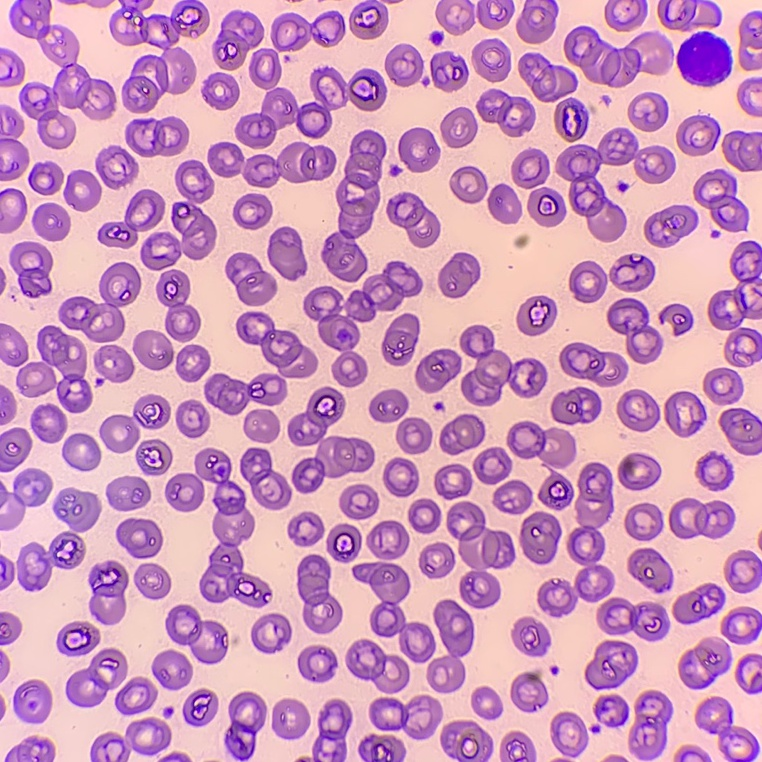RBC: (165, 449, 271, 607), (13, 0, 115, 148), (236, 49, 385, 148), (304, 261, 421, 386), (556, 128, 674, 241), (538, 463, 613, 616), (110, 0, 208, 112), (322, 130, 385, 281), (288, 388, 374, 492), (17, 488, 100, 589), (353, 562, 434, 662), (141, 160, 215, 269), (447, 502, 514, 608), (460, 325, 547, 405), (708, 241, 761, 366), (564, 27, 673, 86), (59, 263, 140, 342), (17, 326, 91, 412), (208, 142, 335, 187), (237, 312, 316, 377), (427, 600, 473, 692), (100, 395, 170, 452), (696, 697, 756, 761), (98, 190, 164, 247), (607, 298, 662, 363), (66, 648, 126, 706), (166, 605, 227, 662), (91, 718, 170, 761), (298, 555, 341, 633), (694, 169, 748, 231), (204, 374, 286, 414), (346, 640, 409, 692), (240, 448, 291, 509), (507, 422, 575, 467), (157, 270, 200, 341), (369, 696, 441, 738), (0, 469, 51, 528), (597, 598, 668, 640), (213, 10, 263, 69), (629, 690, 671, 760), (560, 343, 627, 386), (271, 11, 344, 50), (387, 193, 439, 246), (518, 54, 576, 101), (477, 89, 534, 136), (225, 692, 265, 758), (677, 35, 728, 86), (226, 253, 276, 305), (669, 498, 734, 538), (679, 638, 730, 688), (125, 117, 188, 156), (89, 561, 128, 624), (585, 641, 637, 688), (313, 700, 352, 761), (10, 242, 51, 297), (644, 205, 696, 247), (520, 512, 560, 563), (673, 583, 724, 623), (441, 721, 492, 761), (0, 108, 28, 180), (268, 227, 306, 279), (628, 548, 672, 592), (416, 349, 461, 392), (720, 408, 761, 455), (382, 314, 419, 365), (551, 387, 601, 424), (116, 518, 162, 558), (398, 128, 439, 172), (438, 253, 479, 297), (665, 391, 705, 436), (96, 146, 137, 188), (617, 390, 659, 431), (440, 414, 484, 453), (517, 0, 555, 43), (610, 254, 654, 291), (677, 116, 718, 155), (472, 39, 510, 81), (152, 650, 192, 689), (569, 261, 607, 302), (367, 521, 408, 559), (618, 453, 660, 490), (14, 680, 51, 722), (551, 712, 586, 756), (668, 0, 719, 30), (628, 92, 667, 131), (517, 296, 556, 335), (723, 131, 761, 171), (133, 331, 173, 369), (251, 614, 291, 652), (385, 44, 422, 85), (115, 677, 156, 714), (725, 550, 761, 592), (106, 476, 150, 510), (349, 0, 387, 38), (94, 345, 133, 382), (721, 607, 760, 644), (272, 699, 309, 738), (64, 170, 100, 210), (511, 671, 547, 711), (430, 52, 467, 90), (512, 149, 549, 187), (528, 188, 565, 226), (512, 618, 550, 655), (703, 368, 742, 404), (57, 622, 99, 655), (63, 433, 100, 470), (625, 503, 662, 540), (696, 452, 732, 490), (441, 108, 476, 147), (554, 99, 587, 140), (0, 428, 31, 471), (33, 203, 69, 240), (474, 447, 511, 483), (340, 484, 378, 519), (298, 646, 336, 681), (202, 73, 238, 109), (450, 166, 486, 202), (31, 405, 66, 442), (436, 0, 474, 34), (233, 194, 271, 228), (384, 458, 418, 496), (134, 563, 170, 598), (327, 524, 361, 561), (488, 185, 521, 223), (493, 480, 531, 513), (605, 0, 646, 30), (435, 464, 471, 498), (183, 689, 217, 725), (370, 390, 408, 422), (359, 735, 405, 761), (397, 418, 431, 453), (136, 440, 171, 474), (288, 512, 323, 546), (419, 543, 454, 577), (176, 345, 209, 381), (176, 401, 209, 437), (244, 409, 279, 442), (539, 474, 572, 509), (0, 189, 26, 232), (0, 324, 27, 365), (8, 737, 54, 761), (29, 162, 62, 194), (408, 499, 440, 532), (477, 0, 513, 29), (595, 695, 627, 726), (501, 732, 535, 761), (660, 304, 692, 334), (736, 654, 761, 692), (471, 687, 501, 718), (738, 79, 761, 116), (0, 52, 24, 86), (740, 13, 761, 48), (0, 612, 20, 643), (0, 386, 15, 424), (674, 745, 709, 761), (739, 50, 761, 69), (0, 562, 14, 588), (658, 0, 673, 17), (0, 653, 9, 678), (88, 0, 109, 6), (431, 33, 441, 43), (607, 756, 624, 761), (390, 167, 398, 175), (0, 273, 4, 288), (179, 755, 189, 761), (0, 701, 4, 714), (162, 757, 172, 761), (67, 0, 76, 4), (300, 757, 309, 761)
